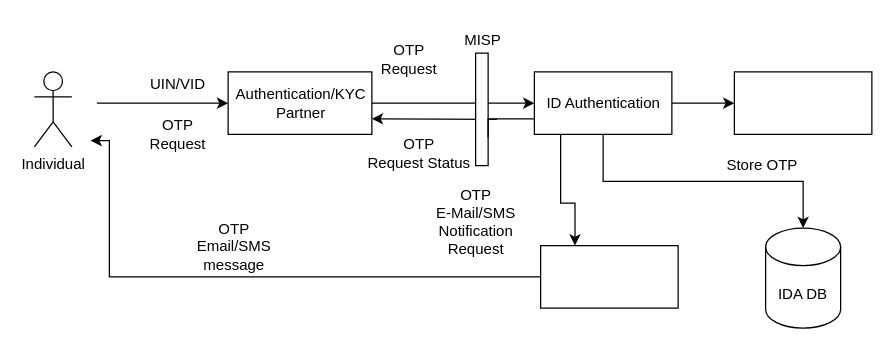
Some shapes in this 894 by 350 pixel diagram are drawn without their labels. The shapes that lost their labels are listed below. From the top down, each one's centre as x and y in pixels, then its label:
At (x=802, y=102): "OTP Generator Service".
At (x=608, y=276): "Notification Service".
